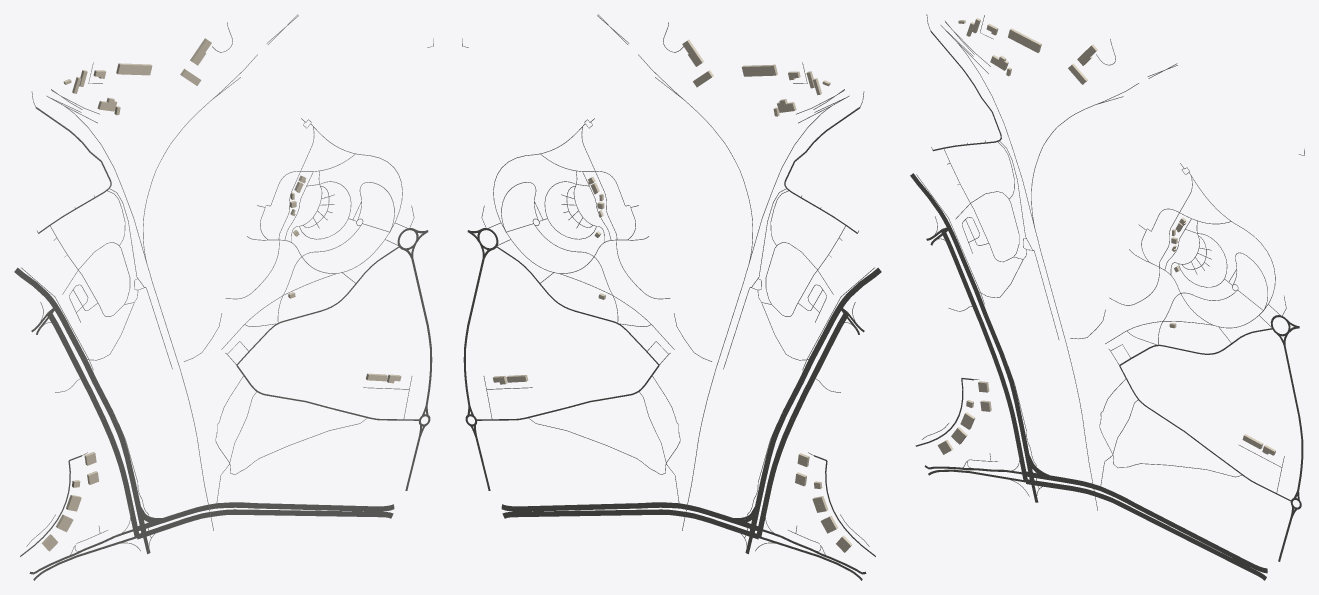
File: historic-palestine-06_18_3480_3123.glb
3 renders of one model, left to right at view 1: azimuth 30°, elevation 25°; view 2: azimuth 150°, elevation 25°; view 3: azimuth 330°, elevation 25°, orthographic. The views are drawn at different scales.
Parts seen in each view (by area): view 1: Road שדרות יגאל אלון.002, Road שדרות יגאל אלון.004, Road אילת.005, Road אילת.004; view 2: Road שדרות יגאל אלון.002, Road שדרות יגאל אלון.004, Road אילת.005, Road אילת.004; view 3: Road שדרות יגאל אלון.002, Road שדרות יגאל אלון.004, Road אילת.005.
Part boxes in pixels (x1=…): Road שדרות יגאל אלון.002: x1=162, y1=502, x2=394, y2=522; Road שדרות יגאל אלון.004: x1=163, y1=509, x2=393, y2=530; Road אילת.005: x1=109, y1=412, x2=140, y2=508; Road אילת.004: x1=101, y1=418, x2=132, y2=505; Road שדרות יגאל אלון.002: x1=501, y1=502, x2=733, y2=522; Road שדרות יגאל אלון.004: x1=502, y1=509, x2=732, y2=530; Road אילת.005: x1=755, y1=412, x2=786, y2=508; Road אילת.004: x1=763, y1=418, x2=794, y2=505; Road שדרות יגאל אלון.002: x1=1050, y1=475, x2=1267, y2=573; Road שדרות יגאל אלון.004: x1=1050, y1=482, x2=1266, y2=580; Road אילת.005: x1=999, y1=353, x2=1029, y2=454.
Size of the model in its own units: 1002 by 1224 by 8.7.
